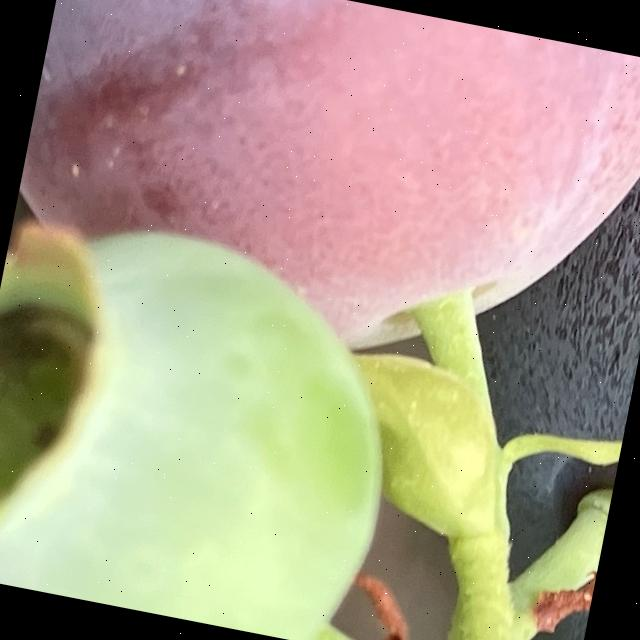Blueberries: (1, 0, 640, 405), (398, 33, 640, 640)
